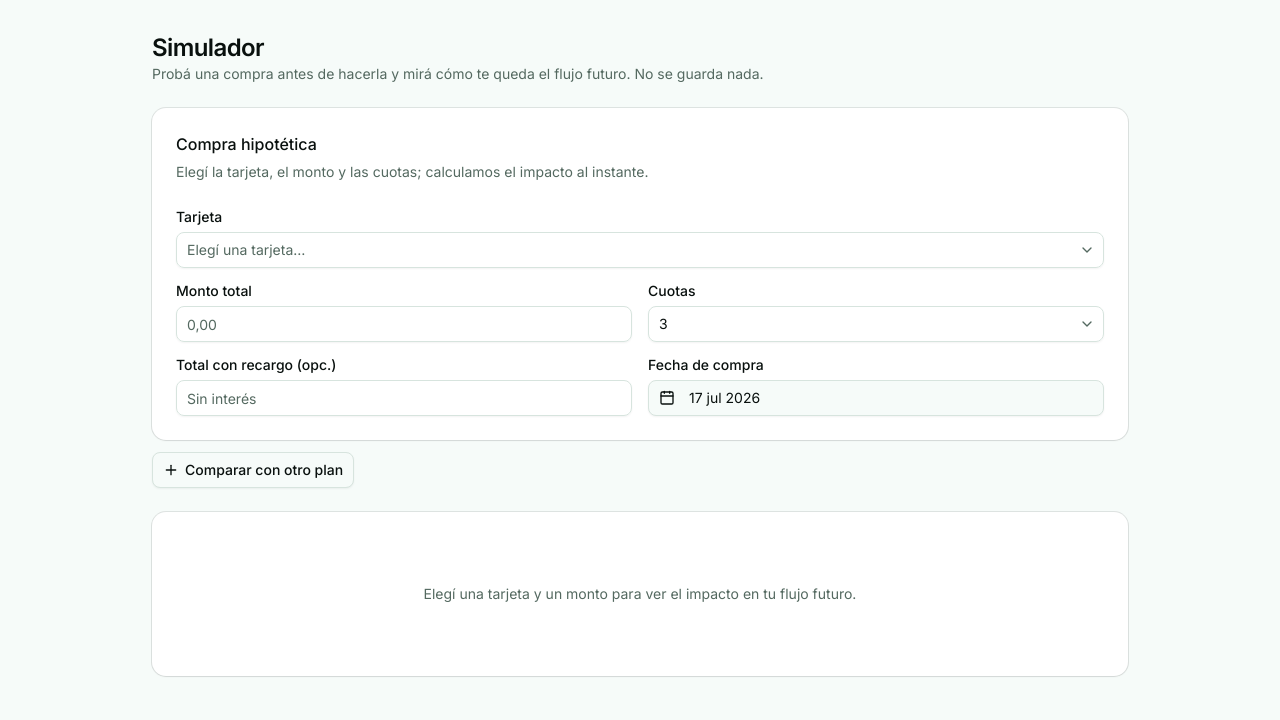
Test: SimulatorClient › una compra en otra moneda que el límite pide la cotización para proyectar
Click the dropdown labelled "Elegí una tarjeta…" at (246, 250), box [176, 232, 1104, 268]
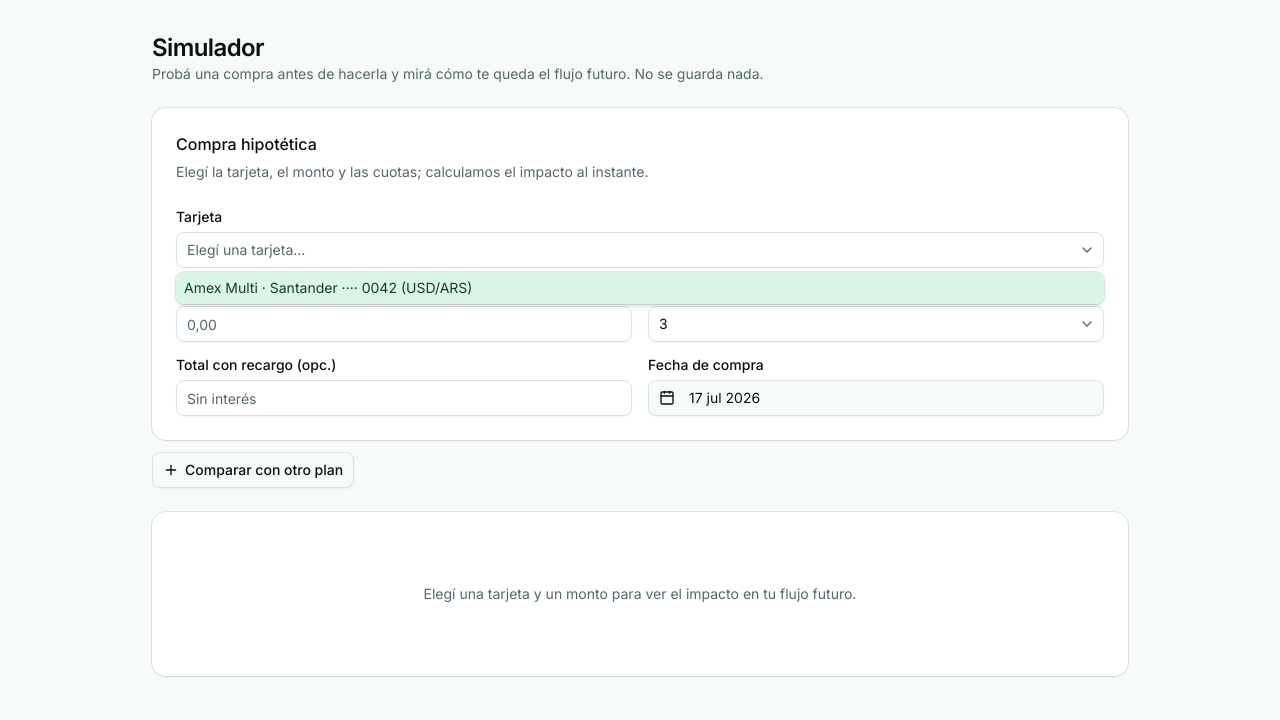
Click the option "Amex Multi · Santander ···· 0042 (USD/ARS)" at (221, 288), box [176, 272, 1104, 304]
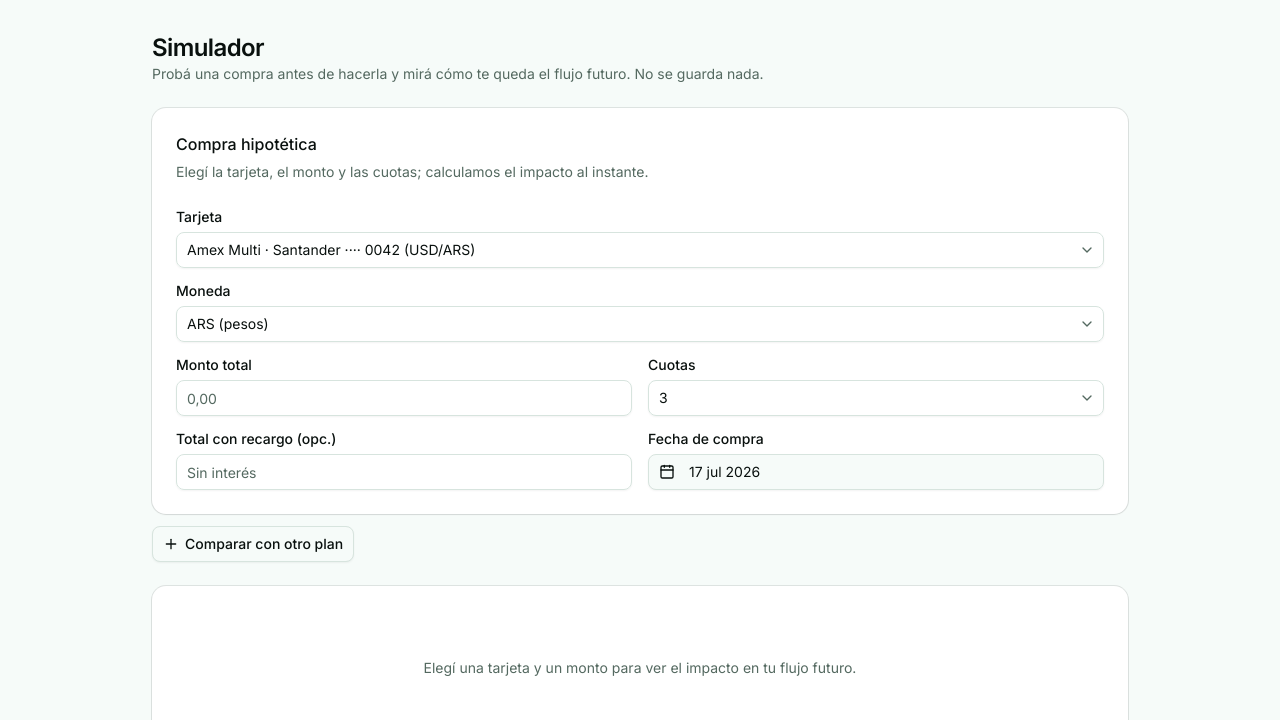
Note: Cambiar la moneda del plan a USD (≠ principal ARS del límite).
Click the dropdown labelled "ARS (pesos)" at (228, 324), box [176, 306, 1104, 342]
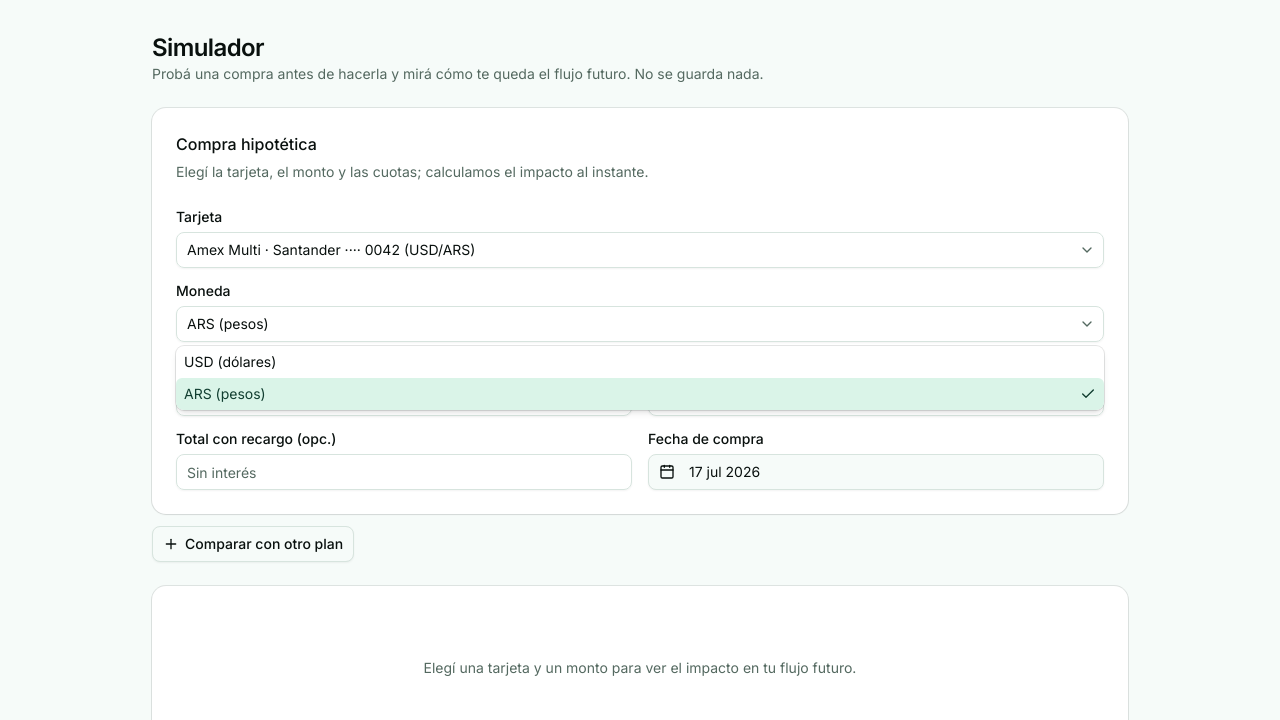
Click the option "USD (dólares)" at (230, 362), box [184, 353, 276, 370]
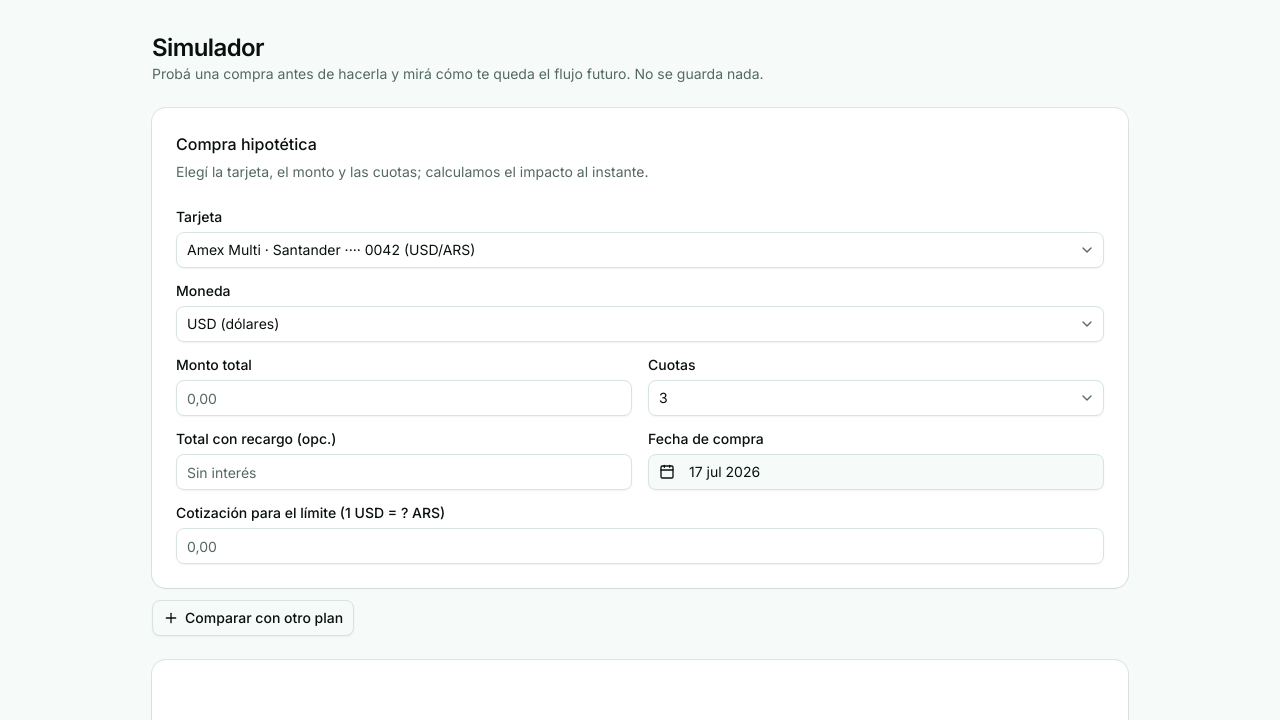
Type "100" into the number field labelled "Monto total" at (404, 398), box [176, 380, 632, 416]
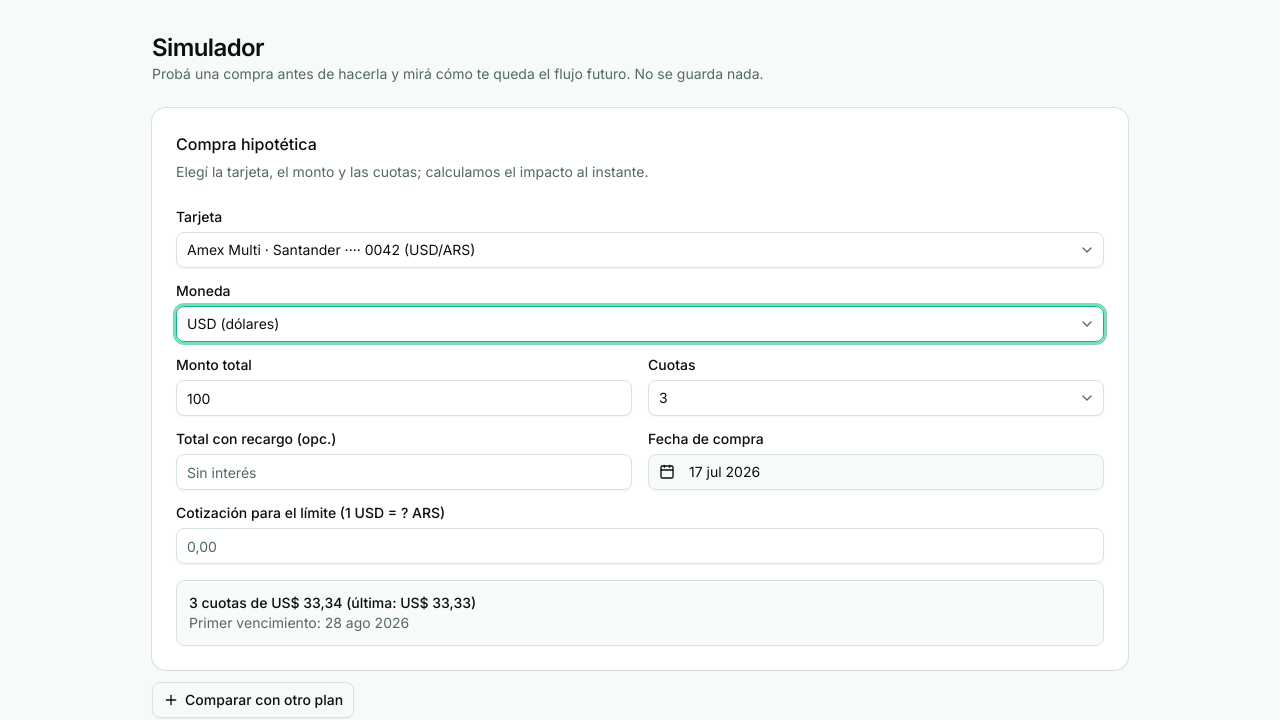
Now the text "Cotización para el límite (1 USD = ? ARS)" is shown, box [176, 504, 445, 521]
Type "1500" into the number field labelled "Cotización para el límite (1 USD = ? ARS)" at (640, 546), box [176, 528, 1104, 564]
(page scrolled)
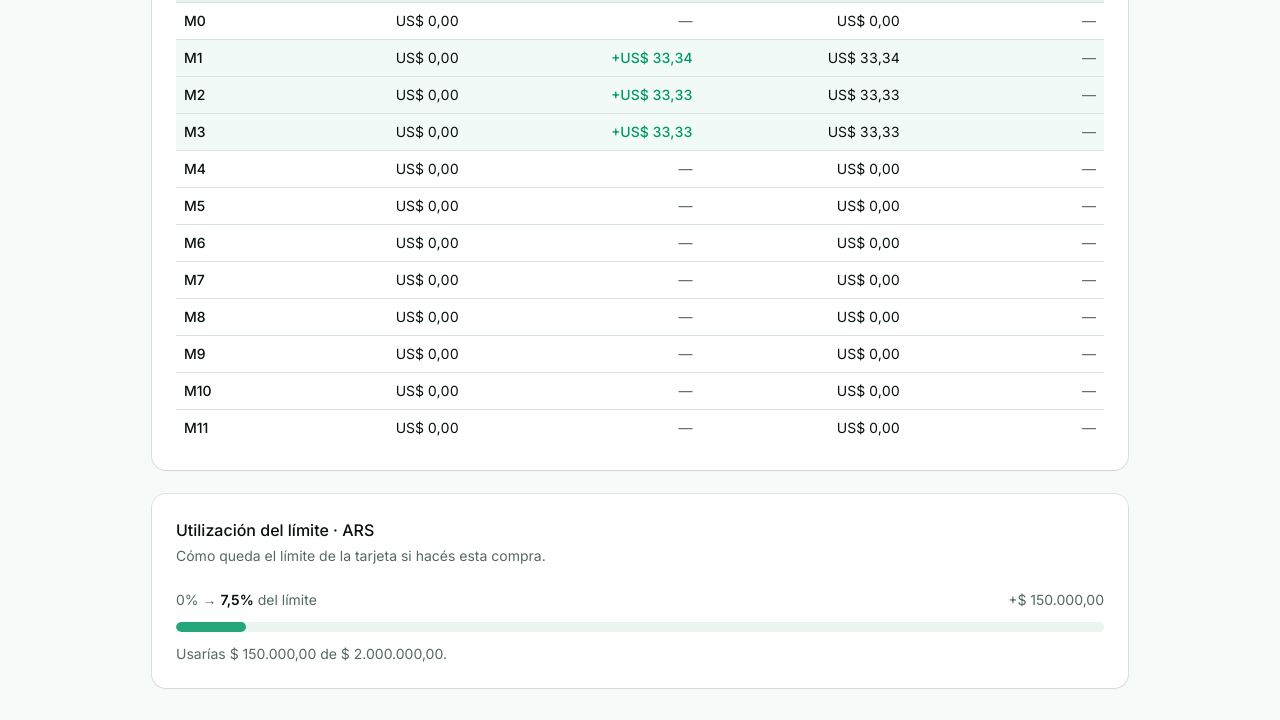
Now the text "7,5%" is shown, box [220, 590, 254, 608]
